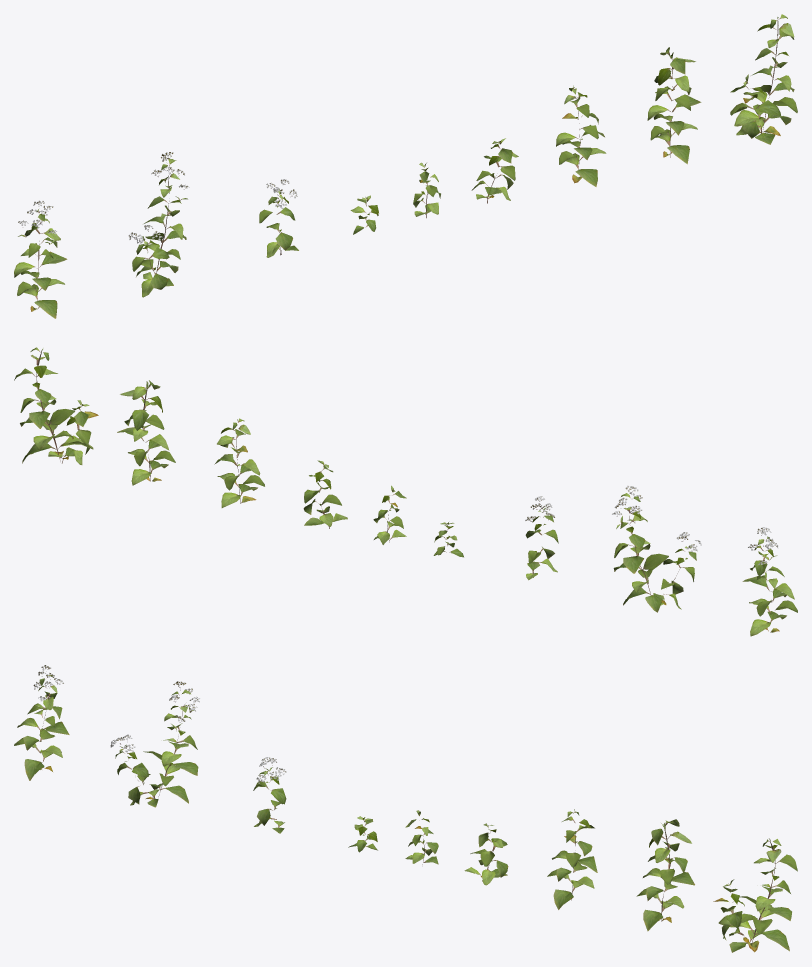
File: shrub_01-riparian-lod.glb
3 renders of one model, top to bottom at view 1: azimuth 30°, elevation 25°; view 2: azimuth 150°, elevation 25°; view 3: azimuth 330°, elevation 25°, orthographic. The views are drawn at different scales.
Parts seen in each view (by area): view 1: shrub_01_a; view 2: shrub_01_a; view 3: shrub_01_a.
Boxes of the visible parts, x1,y1,x2,y2 form: shrub_01_a: (14, 14, 797, 318); shrub_01_a: (14, 347, 797, 636); shrub_01_a: (14, 665, 797, 952).
Size of the model in its own units: 2.59 by 0.3955 by 0.2185.
1 material, 1 textured.
